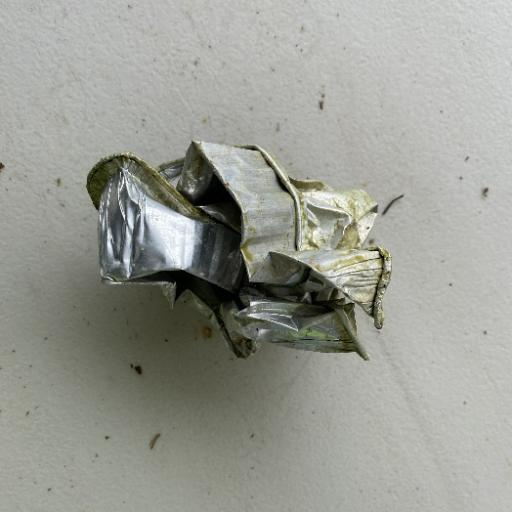Metal: (84, 138, 394, 363)
